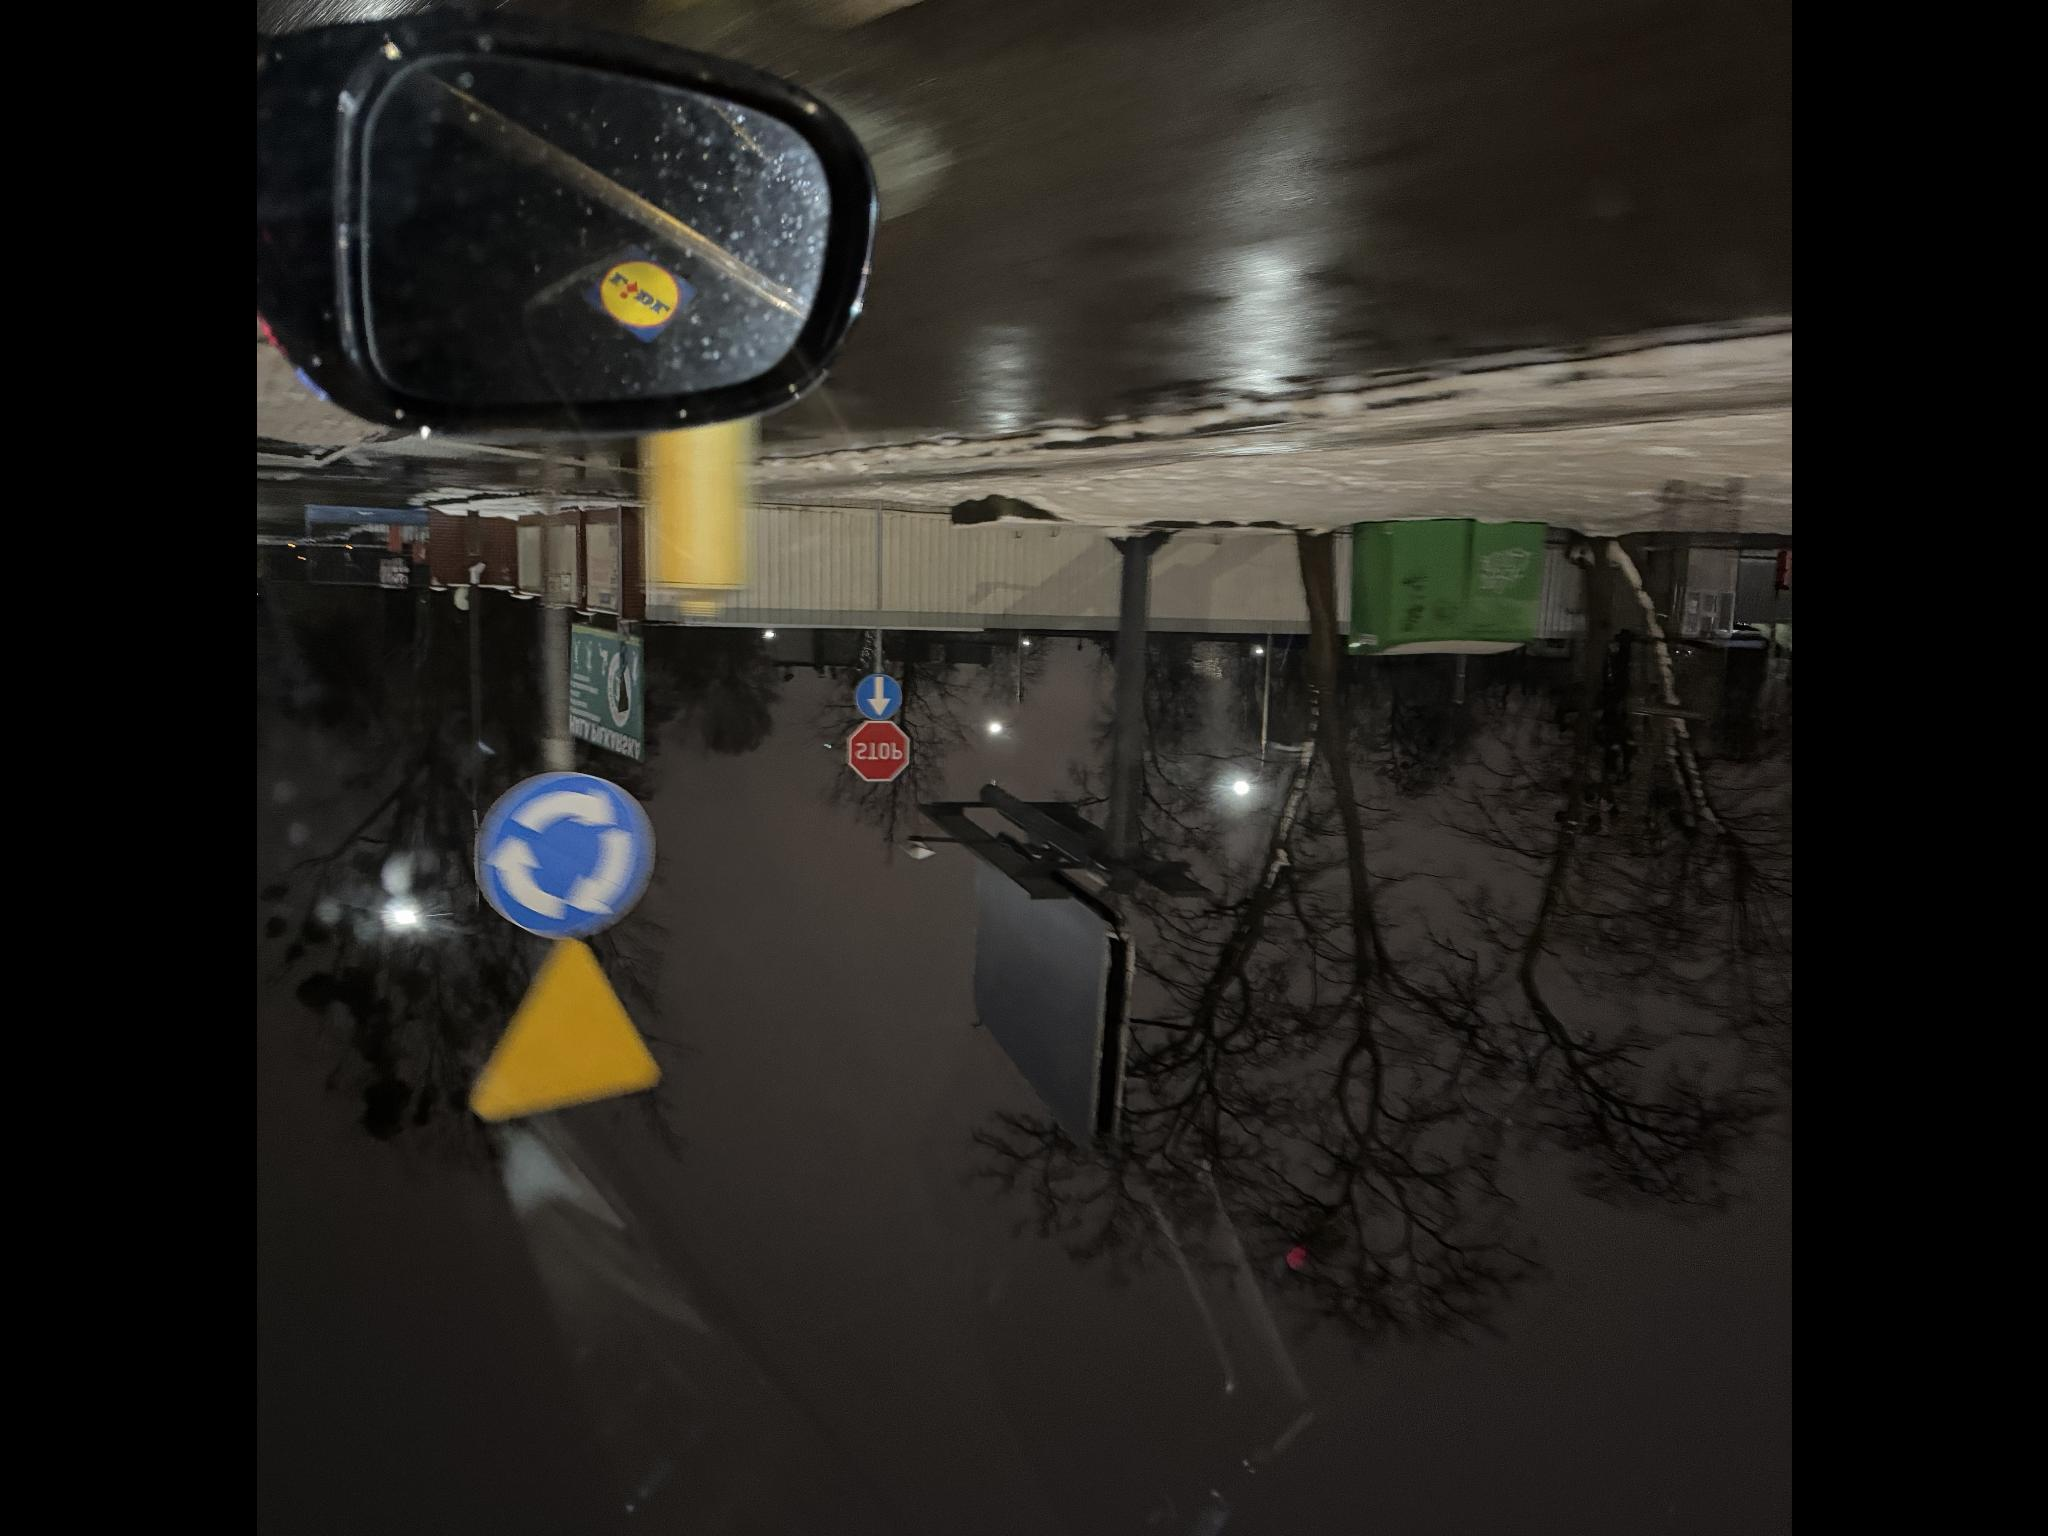mandatory: (769, 1391, 939, 1536), (672, 1146, 719, 1196)
prohibitory: (721, 1139, 782, 1200)
warning: (937, 1384, 1122, 1536)
